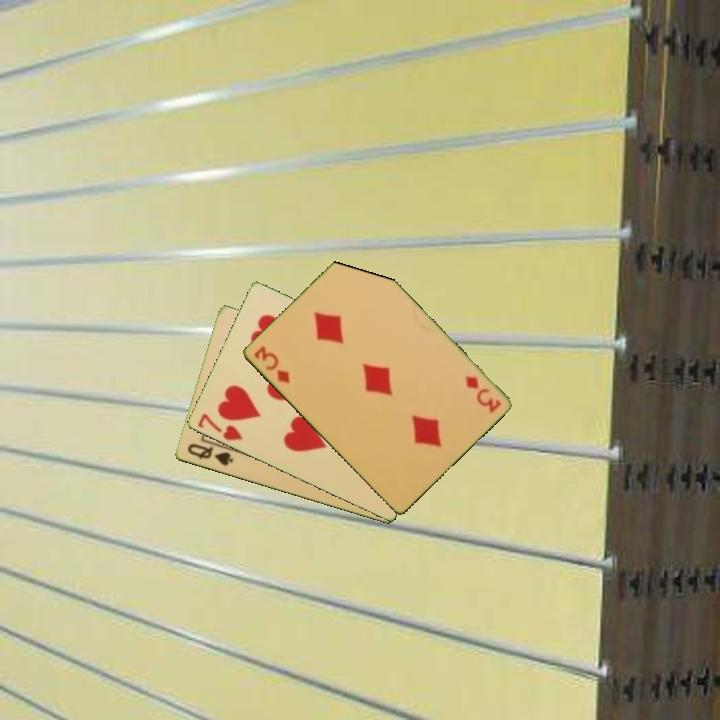3d: (250, 342, 293, 387), (461, 372, 503, 416)
7h: (194, 410, 245, 444)
Qs: (183, 440, 236, 469)
